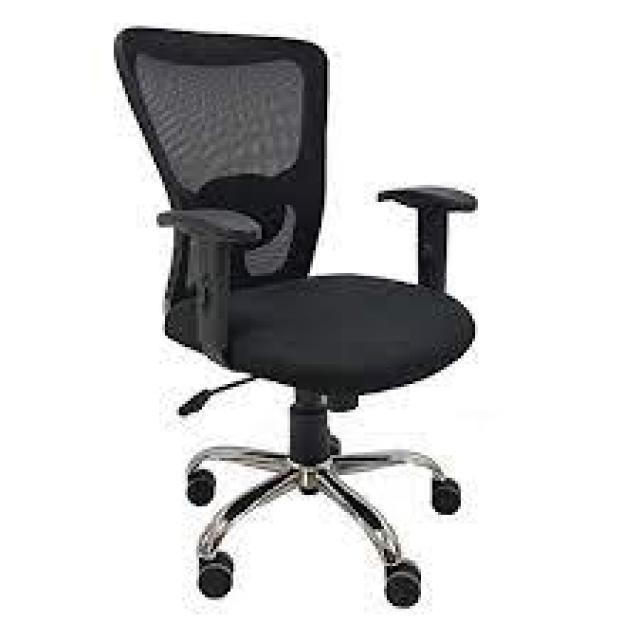chair: (110, 27, 480, 612)
